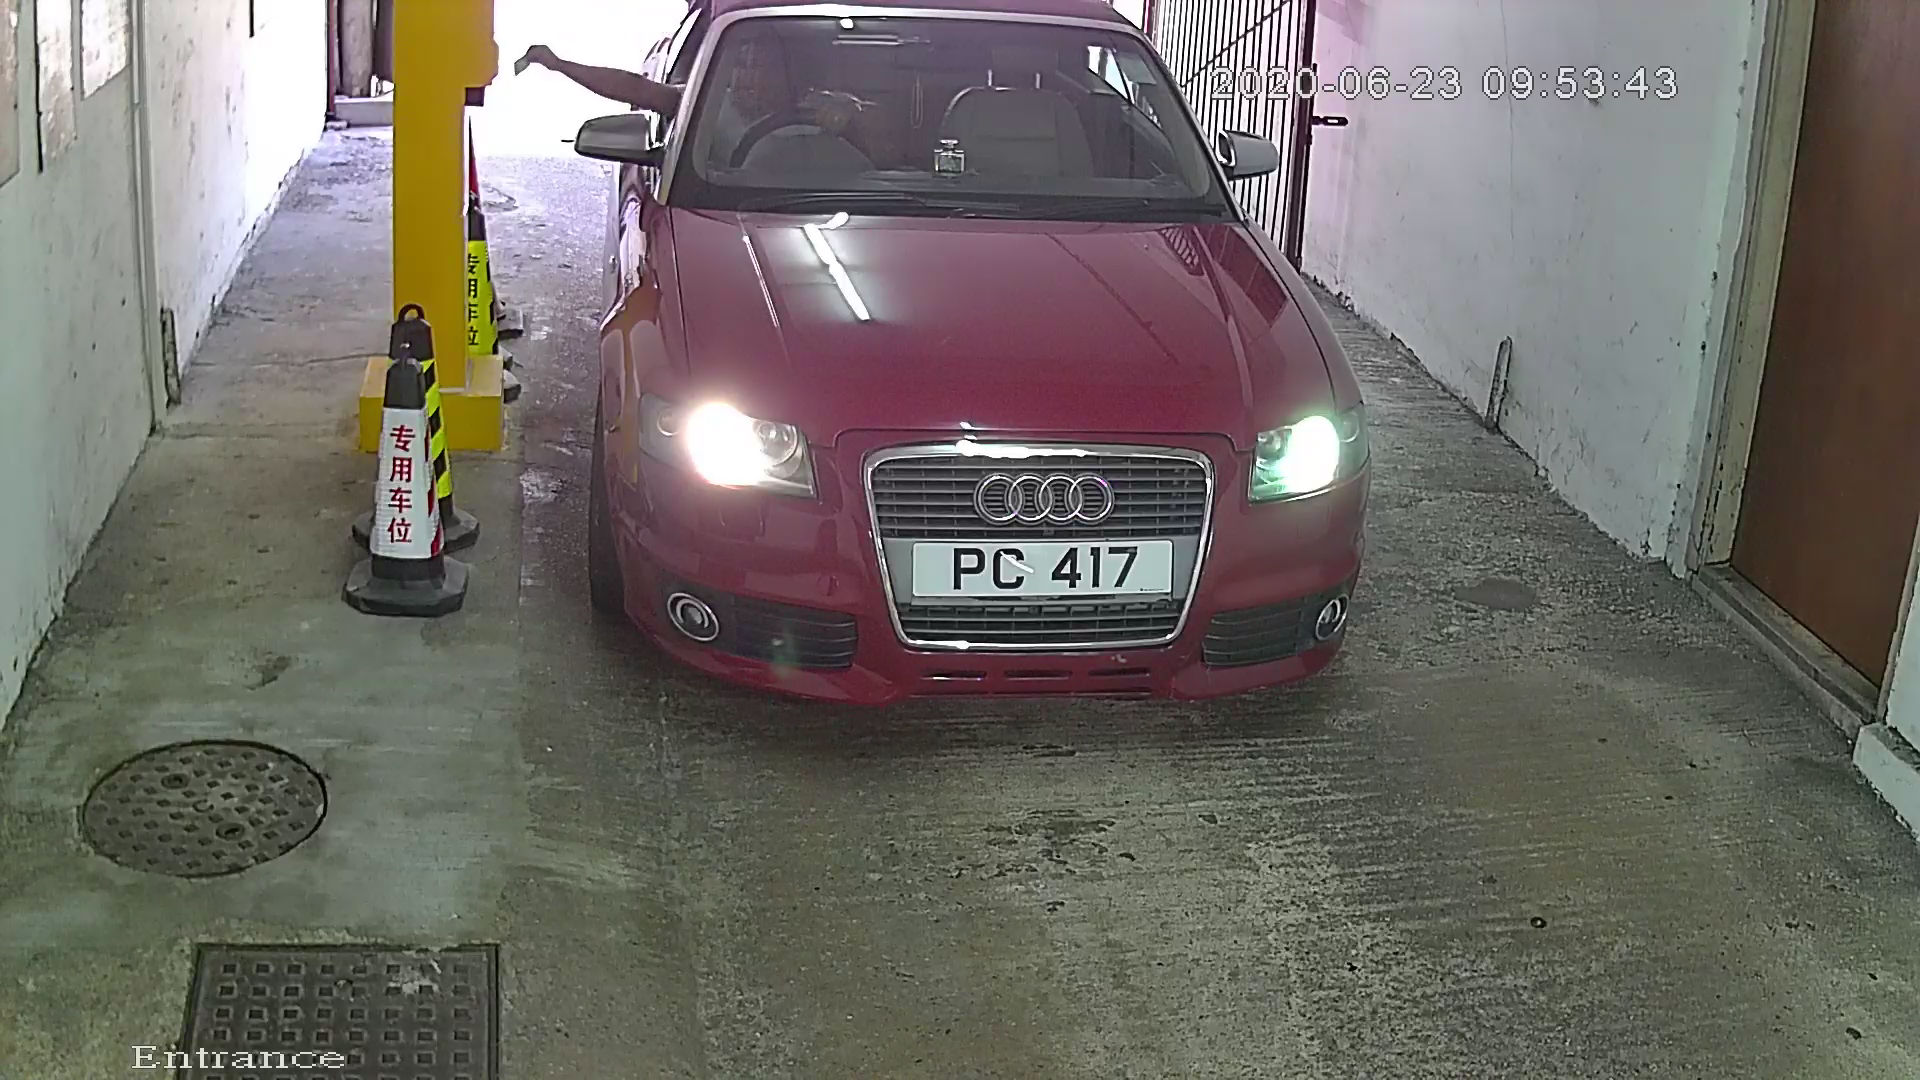privatecar: (568, 3, 1411, 709)
